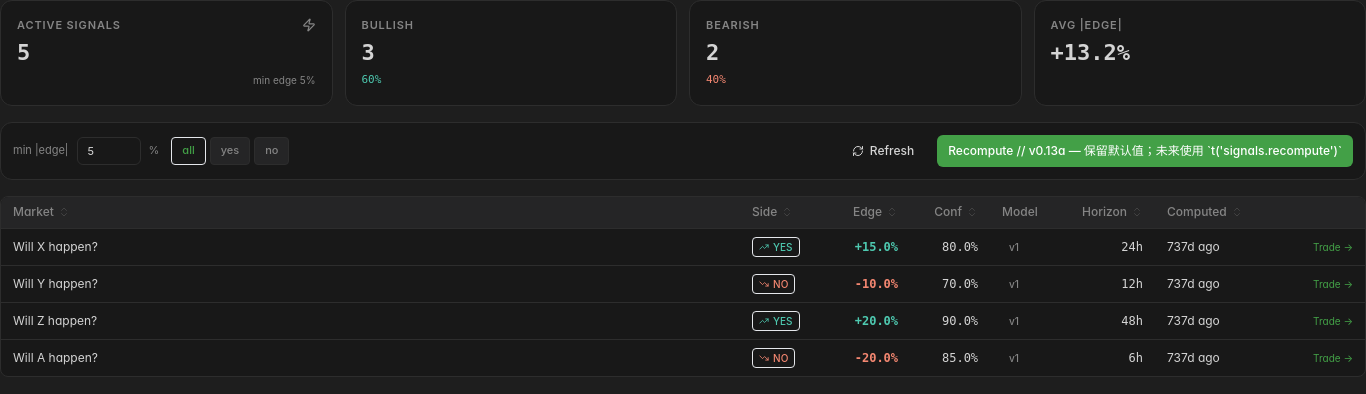
Test: Signals (extended) › filters to only YES (bullish) when side=yes is clicked
Expected: the link "Will X happen?" is shown, [13,239,98,254]
Click the button "yes" at {"x": 230, "y": 150}, box [210,136,250,164]
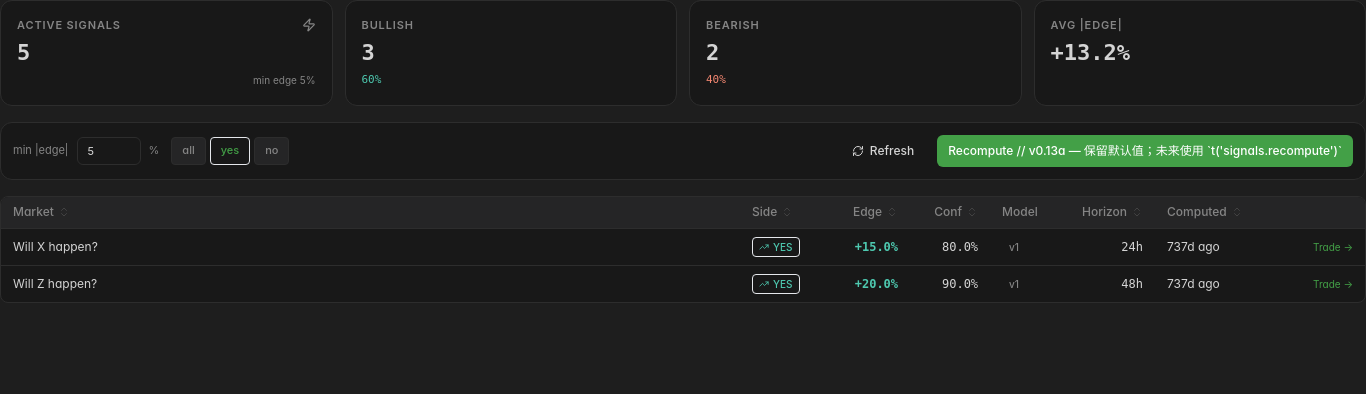
Expected: the link "Will X happen?" is shown, [13,239,98,254]
Expected: the link "Will Y happen?" is gone
